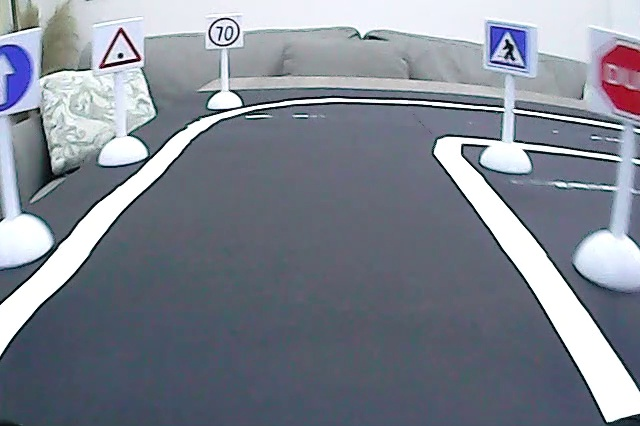green light: (97, 24, 144, 72)
pedestrian crossing: (483, 23, 533, 75)
speed limit 70: (208, 16, 244, 48)
